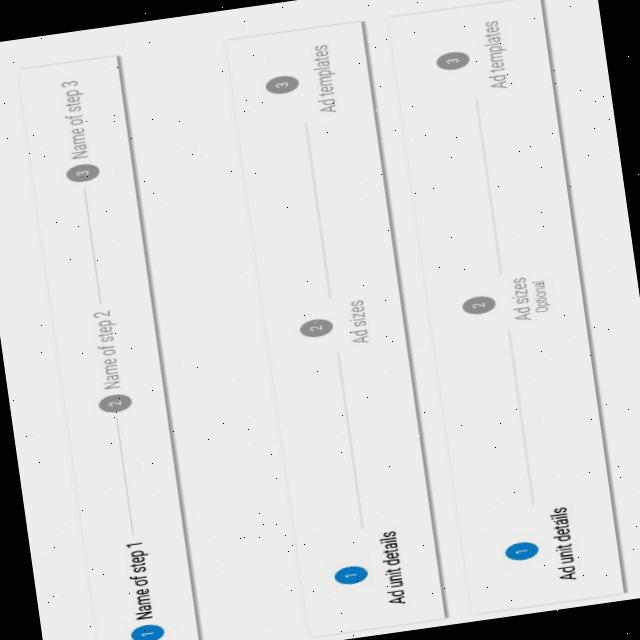VStepper: (387, 0, 625, 616), (224, 21, 447, 638), (14, 54, 203, 640)
